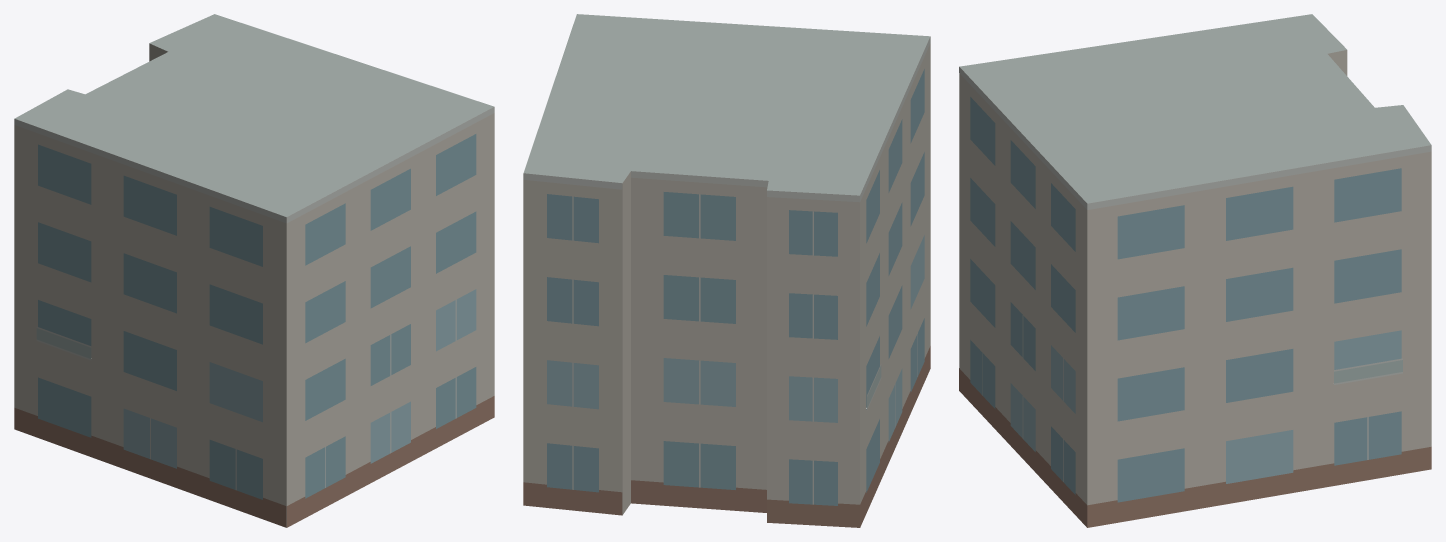
The model's file is survey-upis-32848999.glb.
3 renders of one model, left to right at view 1: azimuth 30°, elevation 25°; view 2: azimuth 150°, elevation 25°; view 3: azimuth 270°, elevation 25°, orthographic. The views are drawn at different scales.
Visible parts, largest first — view 1: survey-upis-32848999.tmp; view 2: survey-upis-32848999.tmp; view 3: survey-upis-32848999.tmp.
Part boxes in pixels (left/top/right/bottom): survey-upis-32848999.tmp: left=14, top=14, right=494, bottom=527; survey-upis-32848999.tmp: left=523, top=14, right=930, bottom=527; survey-upis-32848999.tmp: left=959, top=14, right=1431, bottom=527.
Bounding box in the file's own units: 15.44 × 12.3 × 16.25.
